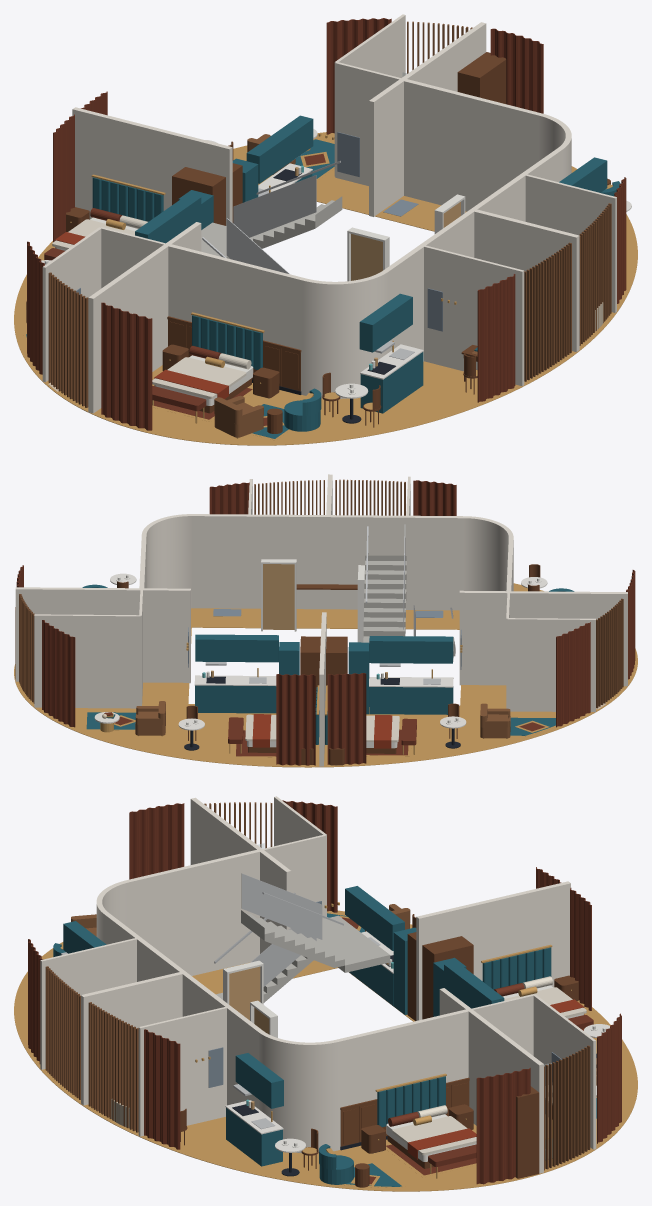
3 views of the same model, one above another, from view 1: azimuth 30°, elevation 25°; view 2: azimuth 150°, elevation 25°; view 3: azimuth 270°, elevation 25° (orthographic). The views are drawn at different scales.
Parts seen in each view (by area): view 1: Muros, Mobiliario, Elementos genéricos, Pisos, Carpintería, Barandales, Puertas, Escaleras, Equipo especial; view 2: Muros, Mobiliario, Pisos, Carpintería, Elementos genéricos, Escaleras, Puertas, Equipo especial, Barandales; view 3: Muros, Mobiliario, Elementos genéricos, Carpintería, Pisos, Escaleras, Barandales, Puertas, Equipo especial, Muebles sanitarios.
Part boxes in pixels (x1,y1,x2,y2): Muros: [42, 14, 616, 413]; Mobiliario: [23, 18, 631, 440]; Elementos genéricos: [48, 21, 611, 407]; Pisos: [14, 132, 637, 445]; Carpintería: [135, 52, 607, 413]; Barandales: [202, 160, 340, 274]; Puertas: [347, 194, 465, 281]; Escaleras: [201, 196, 342, 258]; Equipo especial: [178, 158, 258, 229]; Muros: [15, 474, 627, 766]; Mobiliario: [16, 480, 635, 765]; Pisos: [14, 583, 637, 767]; Carpintería: [15, 607, 453, 714]; Elementos genéricos: [19, 479, 623, 708]; Escaleras: [363, 555, 455, 661]; Puertas: [261, 559, 364, 642]; Equipo especial: [279, 642, 369, 714]; Barandales: [365, 524, 453, 636]; Muros: [40, 796, 596, 1173]; Mobiliario: [28, 800, 621, 1187]; Elementos genéricos: [45, 802, 590, 1170]; Carpintería: [61, 886, 552, 1178]; Pisos: [14, 910, 637, 1191]; Escaleras: [216, 910, 390, 1002]; Barandales: [214, 873, 343, 986]; Puertas: [223, 960, 277, 1037]; Equipo especial: [393, 927, 466, 1016]; Muebles sanitarios: [111, 937, 552, 1160].
Size of the model in its own units: 16.59 by 4.03 by 15.23.
